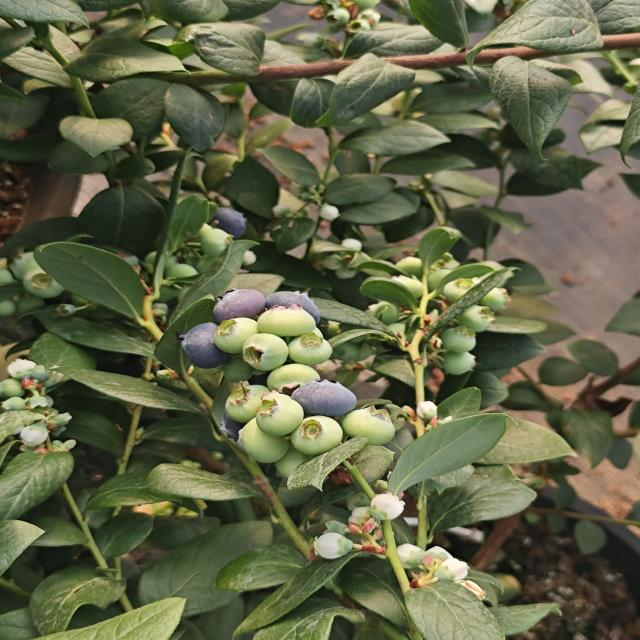ripe: (261, 287, 332, 327), (288, 378, 359, 418), (176, 321, 231, 371), (214, 285, 268, 324), (214, 202, 253, 235)
